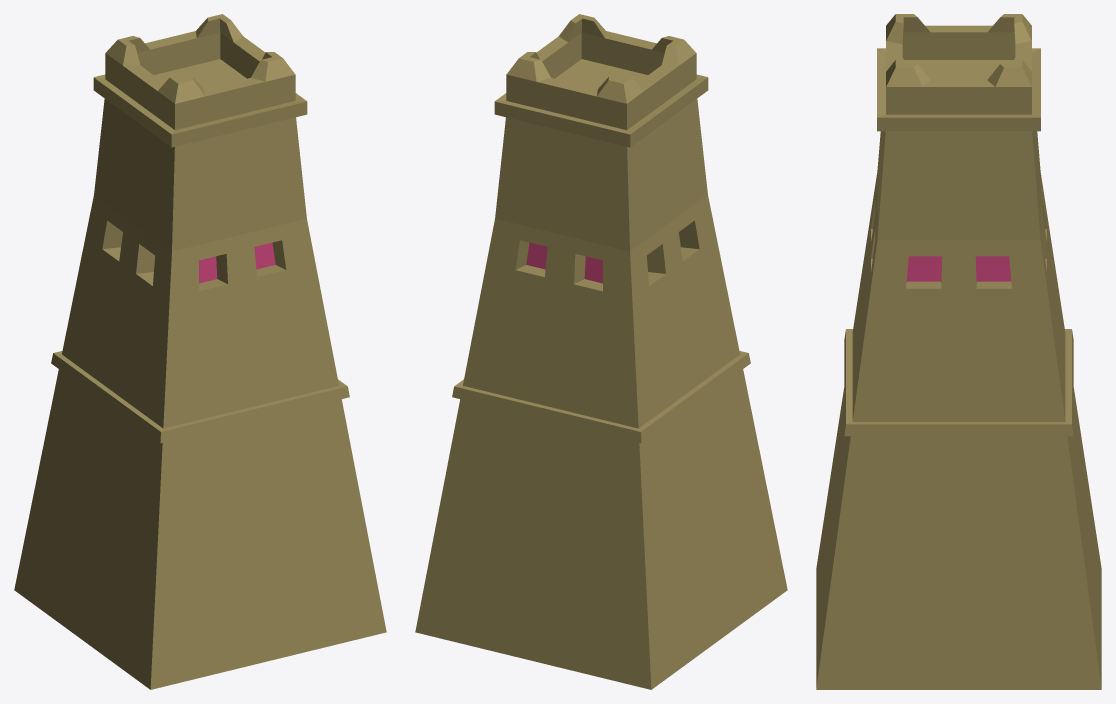
Rendered from tower.fbx.
3 views of the same model, side by side, from view 1: azimuth 30°, elevation 25°; view 2: azimuth 150°, elevation 25°; view 3: azimuth 270°, elevation 25° (orthographic). The views are drawn at different scales.
Visible parts, largest first — view 1: Cube.005; view 2: Cube.005; view 3: Cube.005.
Part boxes in pixels (bbox=[...]): Cube.005: bbox=[14, 14, 386, 689]; Cube.005: bbox=[415, 14, 787, 689]; Cube.005: bbox=[816, 14, 1101, 689].
Bounding box in the file's own units: 200 × 455 × 200.
